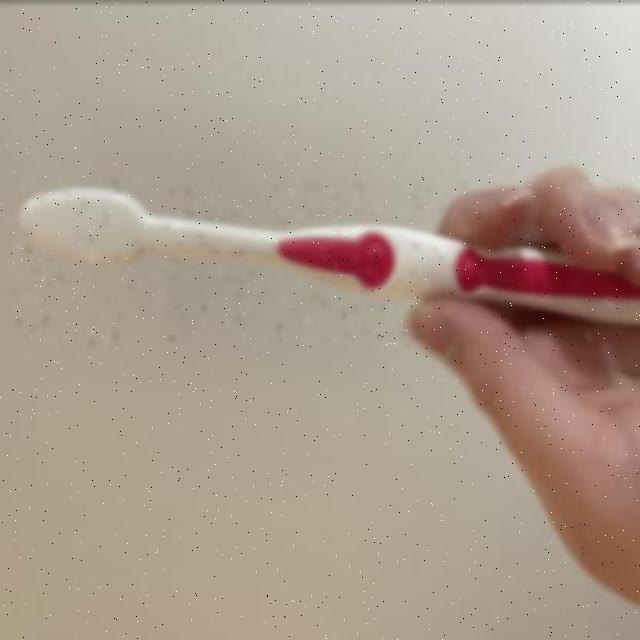toothbrush: (8, 176, 640, 342)
